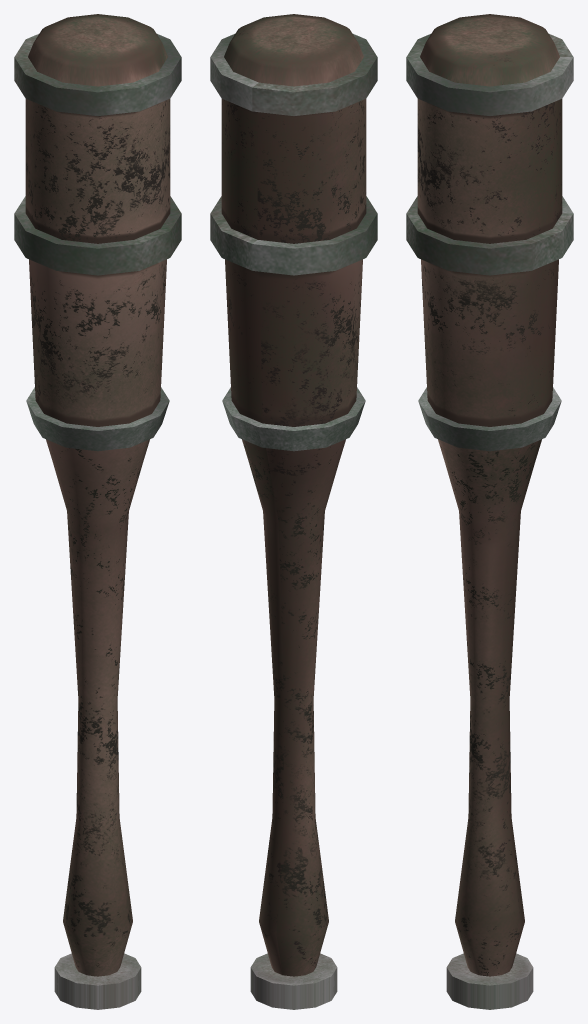
File: weapon1.FBX
3 renders of one model, left to right at view 1: azimuth 30°, elevation 25°; view 2: azimuth 150°, elevation 25°; view 3: azimuth 270°, elevation 25°, orthographic.
Visible parts, largest first — view 1: Cylinder001; view 2: Cylinder001; view 3: Cylinder001.
Part boxes in pixels (x1=…): Cylinder001: x1=14, y1=14, x2=181, y2=1009; Cylinder001: x1=210, y1=14, x2=377, y2=1009; Cylinder001: x1=406, y1=14, x2=573, y2=1009.
Bounding box in the file's own units: 9.82 × 62.01 × 9.82.
